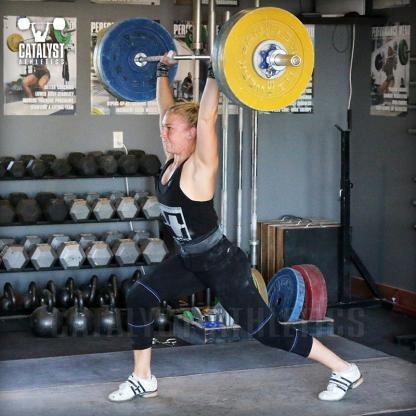barbell: (94, 8, 315, 113)
